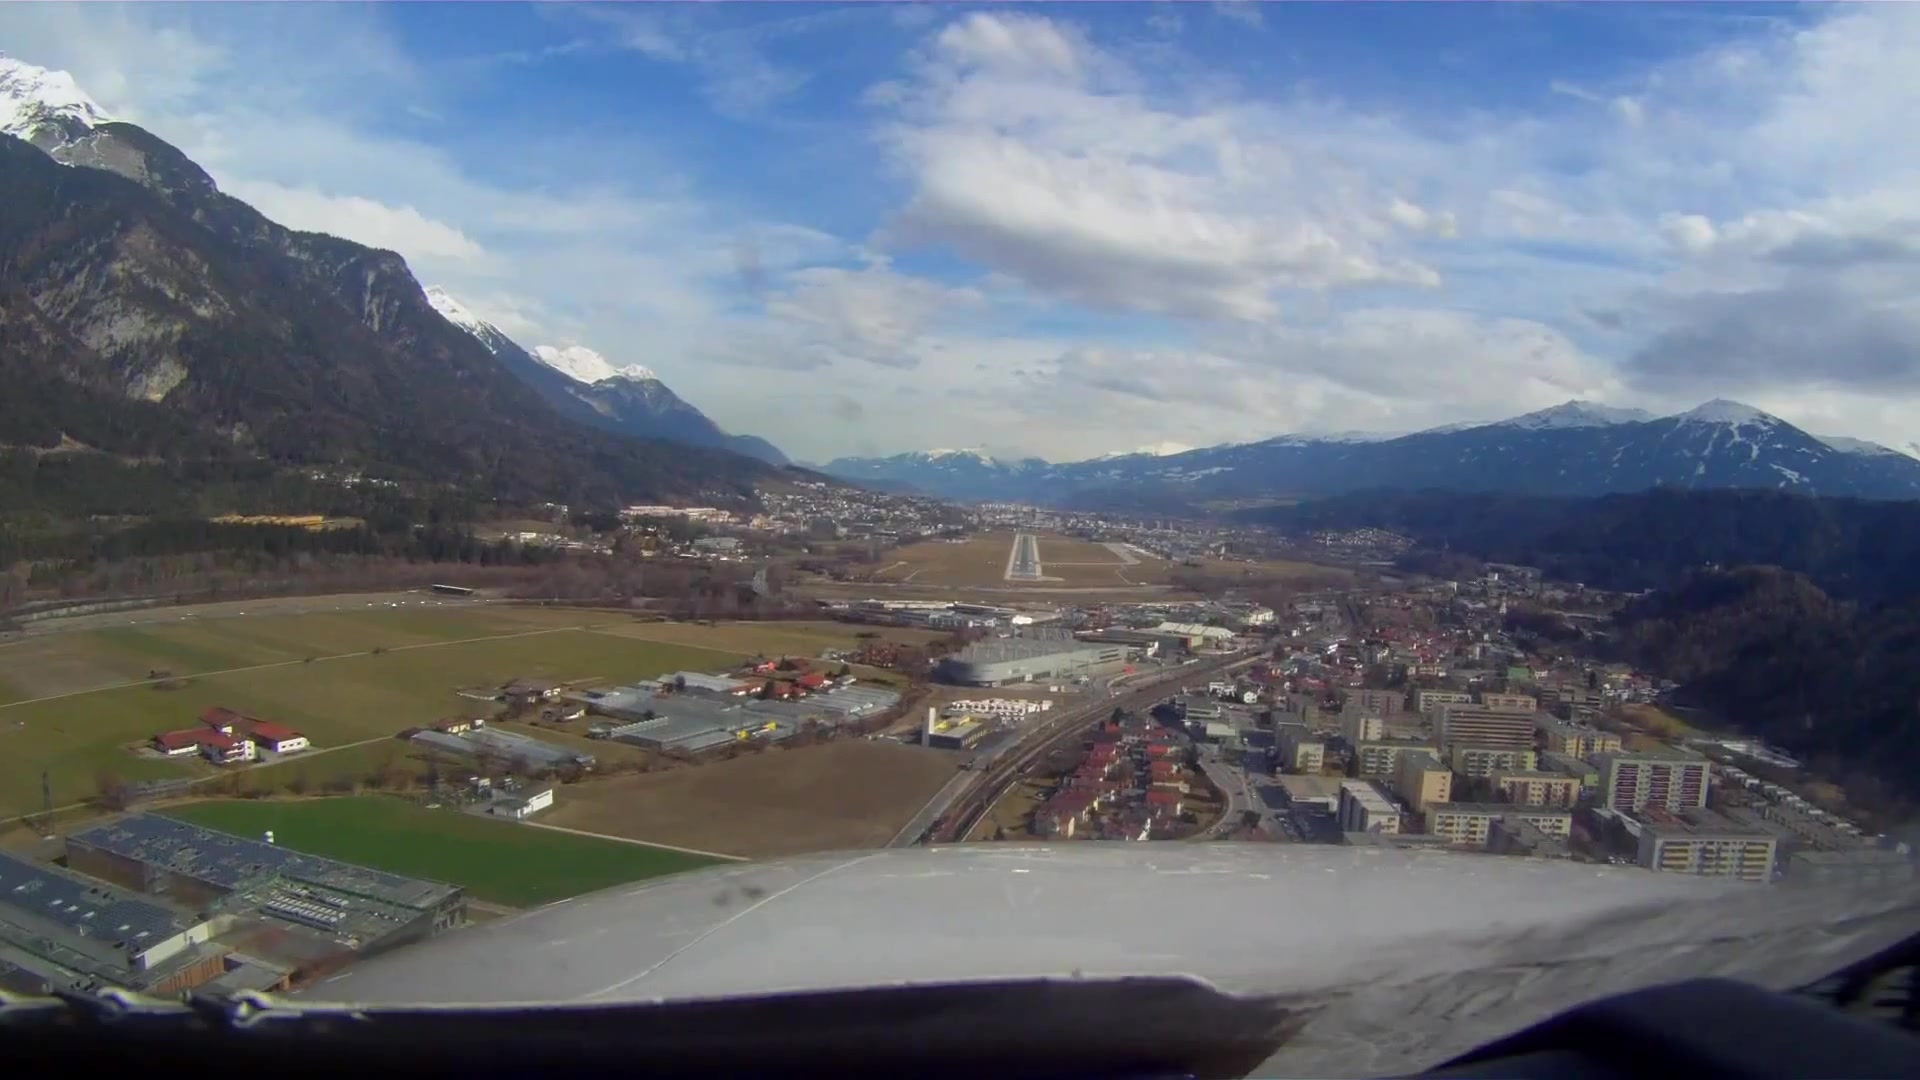runway: (1002, 535, 1042, 582)
